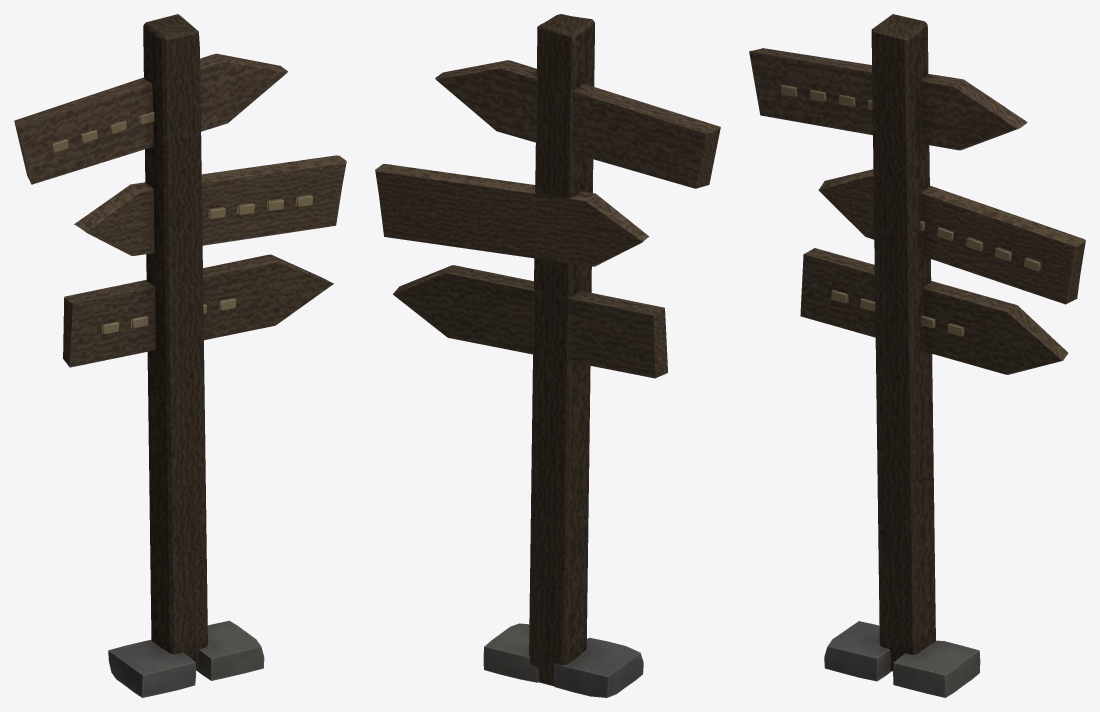
Rendered from signpost.glb.
The picture shows the model from 3 angles, left to right: view 1: azimuth 30°, elevation 25°; view 2: azimuth 150°, elevation 25°; view 3: azimuth 330°, elevation 25°; orthographic projection. The views are drawn at different scales.
Visible parts, largest first — view 1: signpost; view 2: signpost; view 3: signpost.
Part boxes in pixels (box(x1,y1,x2,y2)): signpost: box(14, 14, 346, 697); signpost: box(375, 14, 720, 697); signpost: box(749, 14, 1085, 697).
Bounding box in the file's own units: 0.9591 × 1.79 × 0.1814.
Materials: 1 (1 with a texture image).
